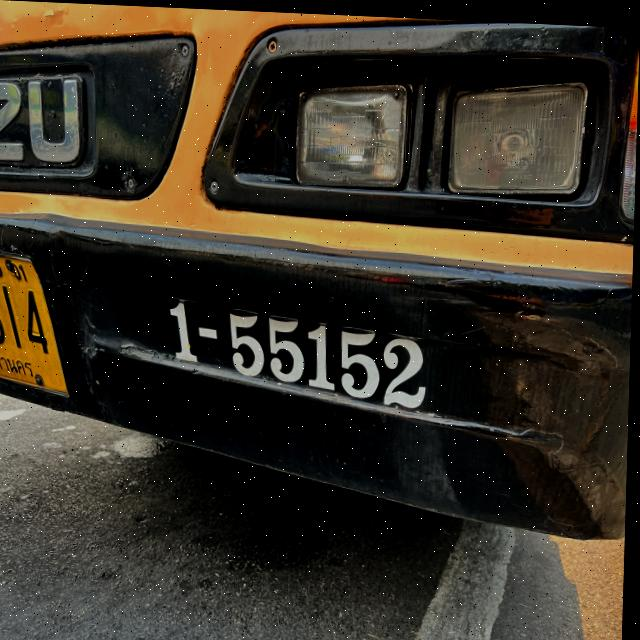BMTA-bus: (0, 0, 640, 554)
